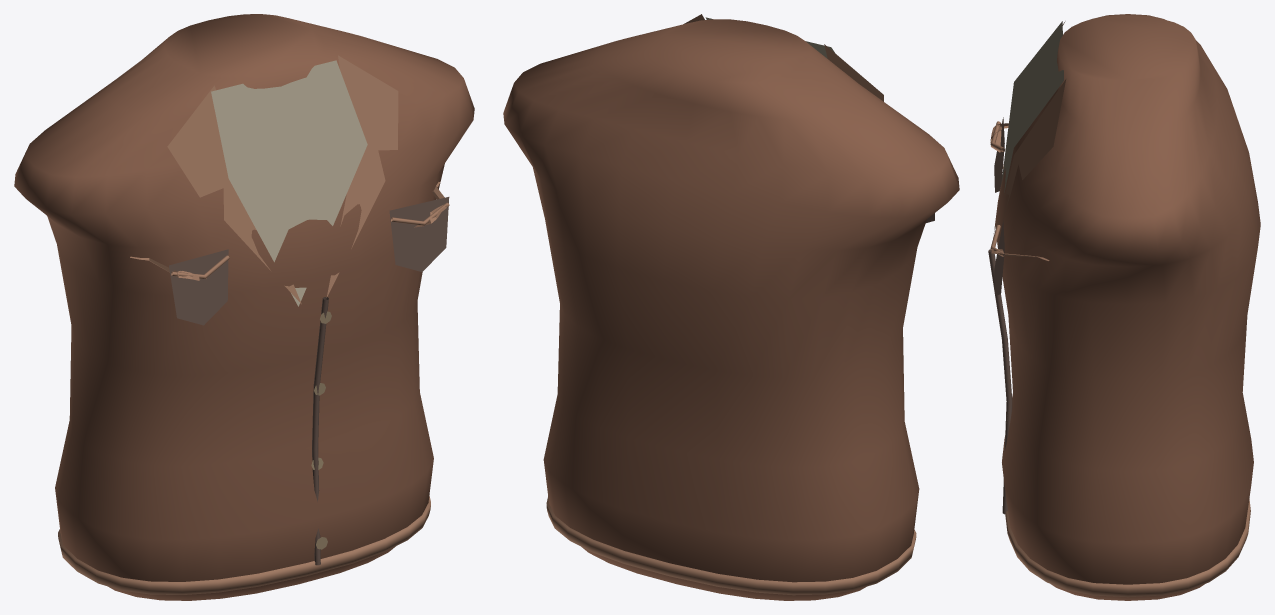
Rendered from AdaJacket.glb.
3 views of the same model, side by side, from view 1: azimuth 30°, elevation 25°; view 2: azimuth 150°, elevation 25°; view 3: azimuth 270°, elevation 25° (orthographic). The views are drawn at different scales.
Parts seen in each view (by area): view 1: AdaJacket; view 2: AdaJacket; view 3: AdaJacket.
Boxes of the visible parts, bbox=[...] form: AdaJacket: bbox=[14, 14, 474, 600]; AdaJacket: bbox=[503, 14, 959, 600]; AdaJacket: bbox=[988, 14, 1260, 600].
Size of the model in its own units: 0.6441 by 0.701 by 0.359.
